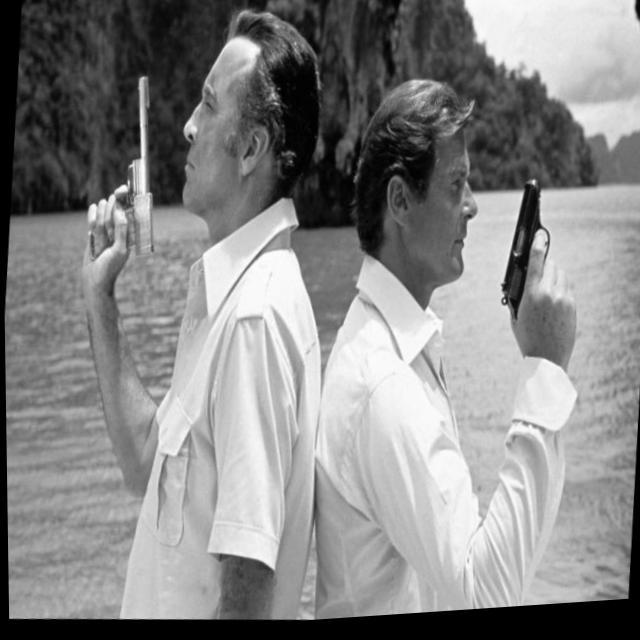weapon: (89, 70, 168, 270), (500, 169, 557, 330)
